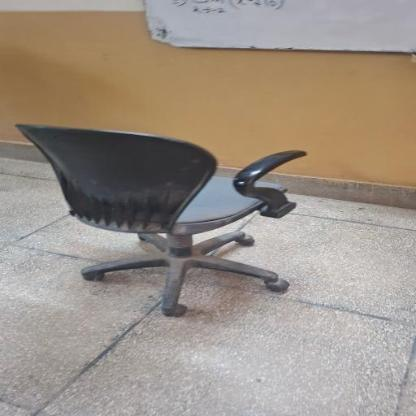chair: (8, 114, 306, 322)
